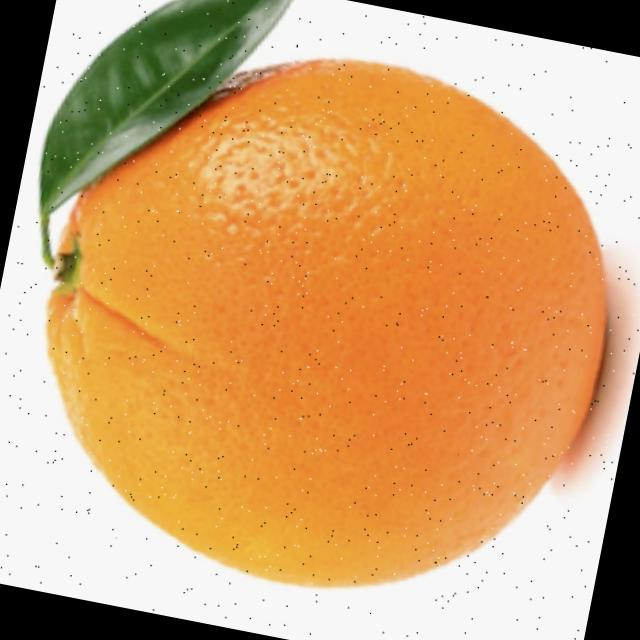orange: (0, 2, 640, 624)
